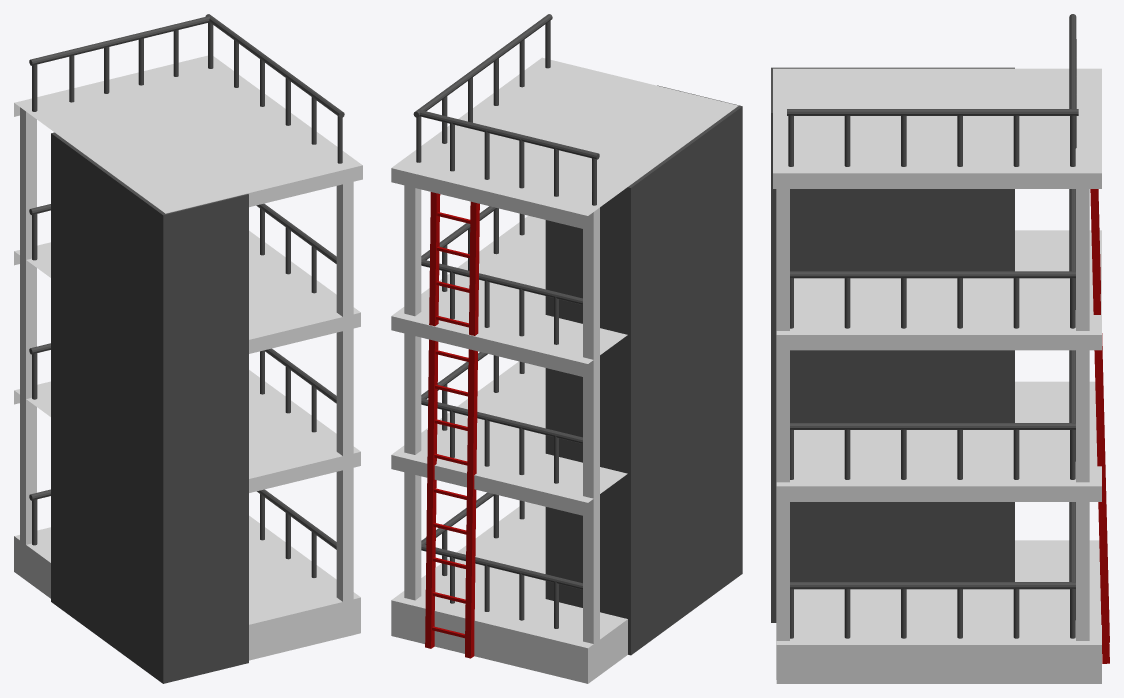
File: Prop_FireTraining_Mod_01.fbx
3 views of the same model, side by side, from view 1: azimuth 30°, elevation 25°; view 2: azimuth 150°, elevation 25°; view 3: azimuth 270°, elevation 25° (orthographic). The views are drawn at different scales.
Visible parts, largest first — view 1: Railing, Floor3, Floor, Floor1, Floor2; view 2: Railing, Floor3, Floor, Floor2, Floor1, Ladder; view 3: Railing, Floor3, Floor, Floor2, Floor1, Ladder.
Boxes of the visible parts, box(x1,y1,x2,y2) form: Railing: box(20, 14, 353, 683); Floor3: box(14, 55, 362, 213); Floor: box(14, 515, 360, 660); Floor1: box(14, 370, 360, 492); Floor2: box(14, 230, 360, 353); Railing: box(404, 14, 742, 679); Floor3: box(391, 57, 738, 229); Floor: box(391, 502, 627, 683); Floor2: box(391, 215, 627, 377); Floor1: box(391, 361, 627, 516); Ladder: box(425, 192, 479, 658); Railing: box(771, 14, 1089, 679); Floor3: box(773, 68, 1101, 188); Floor: box(776, 540, 1101, 683); Floor2: box(776, 230, 1101, 350); Floor1: box(776, 381, 1101, 501); Ladder: box(1090, 189, 1109, 663).
Bounding box in the file's own units: 3.58 × 8.88 × 4.81.
